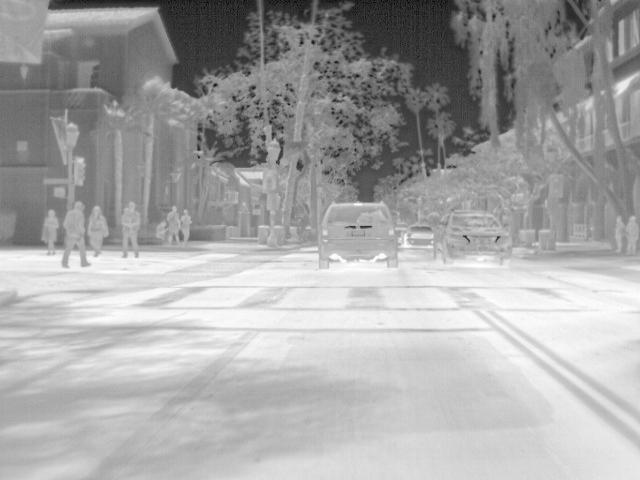car: (318, 198, 402, 271), (432, 210, 513, 267), (405, 224, 437, 248)
person: (60, 200, 93, 269), (121, 200, 142, 260), (88, 205, 110, 258), (42, 209, 60, 256), (623, 211, 640, 258), (164, 206, 181, 247), (180, 208, 195, 248), (612, 216, 626, 255), (152, 219, 168, 244)
